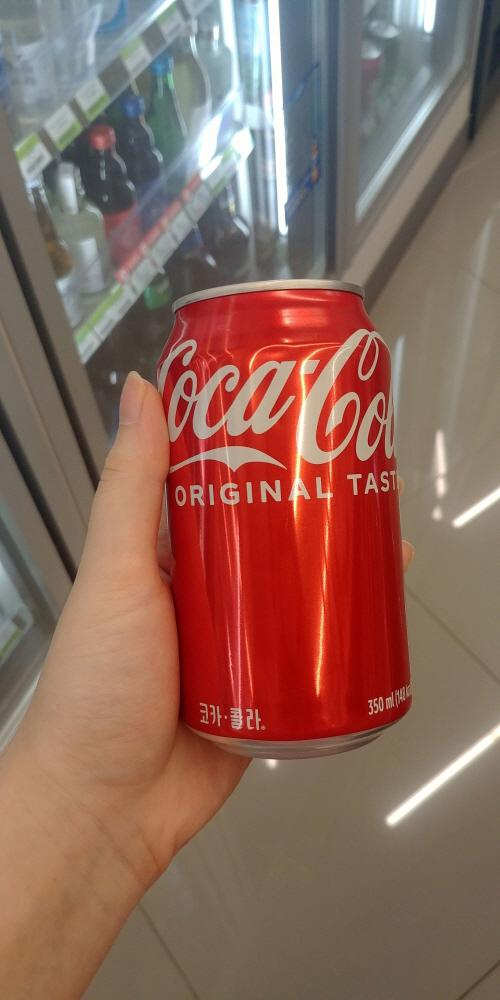cocacola: (148, 280, 411, 780)
